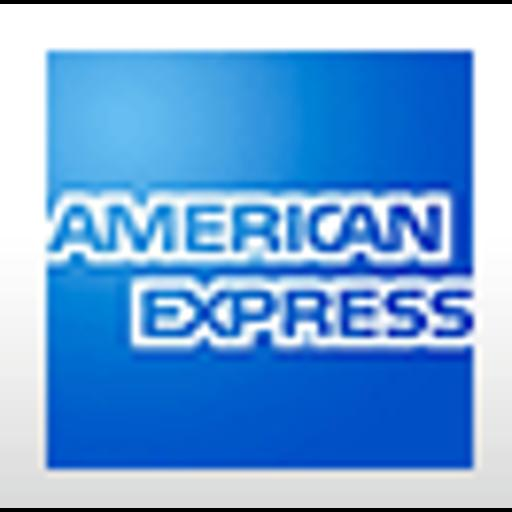American Express: (0, 4, 512, 508)
